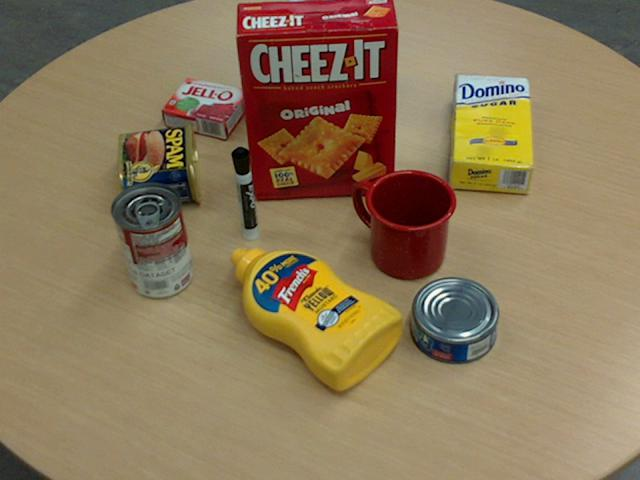cracker_box: (235, 0, 398, 198)
gelatin_box: (159, 76, 248, 139)
large_marker: (230, 147, 258, 241)
master_chef_can: (285, 0, 371, 125)
mug: (354, 168, 456, 278)
mustard_bottle: (229, 248, 402, 390)
potted_meat_can: (118, 121, 200, 208)
sugar_box: (450, 74, 534, 193)
tomato_soup_can: (109, 180, 191, 297)
tuna_fish_can: (410, 276, 499, 363)
